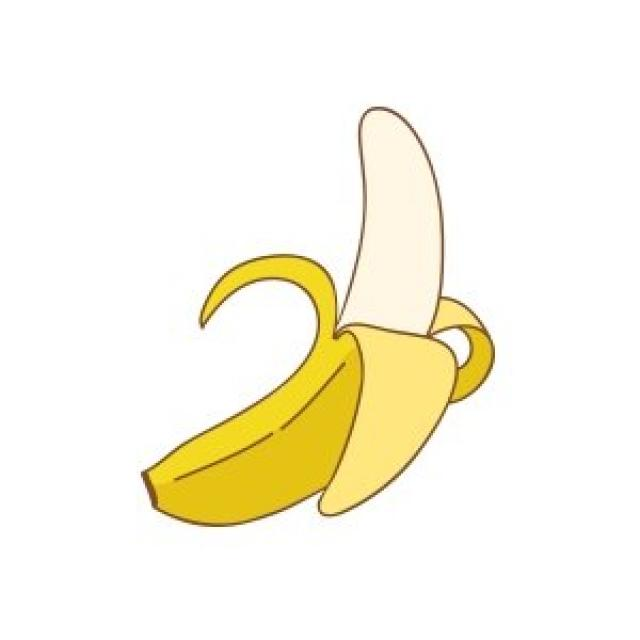banana: (126, 104, 506, 526)
